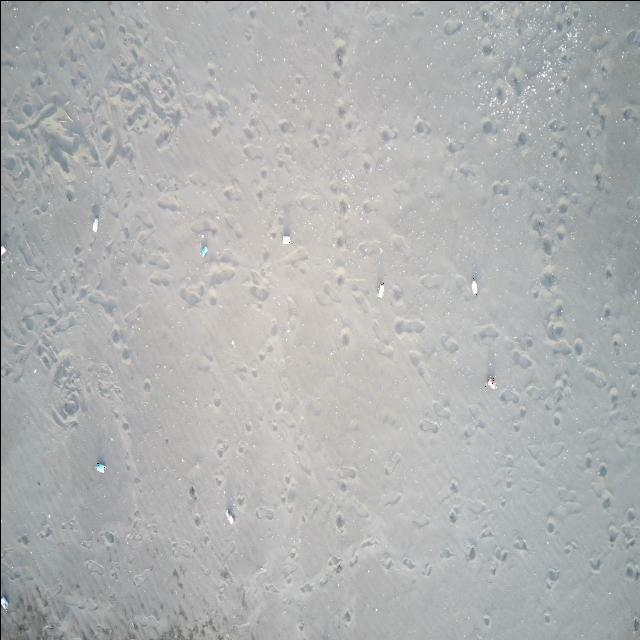Garbage: (200, 233, 207, 256), (224, 507, 233, 523), (376, 281, 383, 298), (0, 595, 8, 609), (91, 216, 98, 232), (487, 376, 495, 388), (471, 276, 476, 295), (200, 243, 207, 256), (96, 462, 104, 472), (281, 235, 289, 243), (0, 246, 5, 256)
